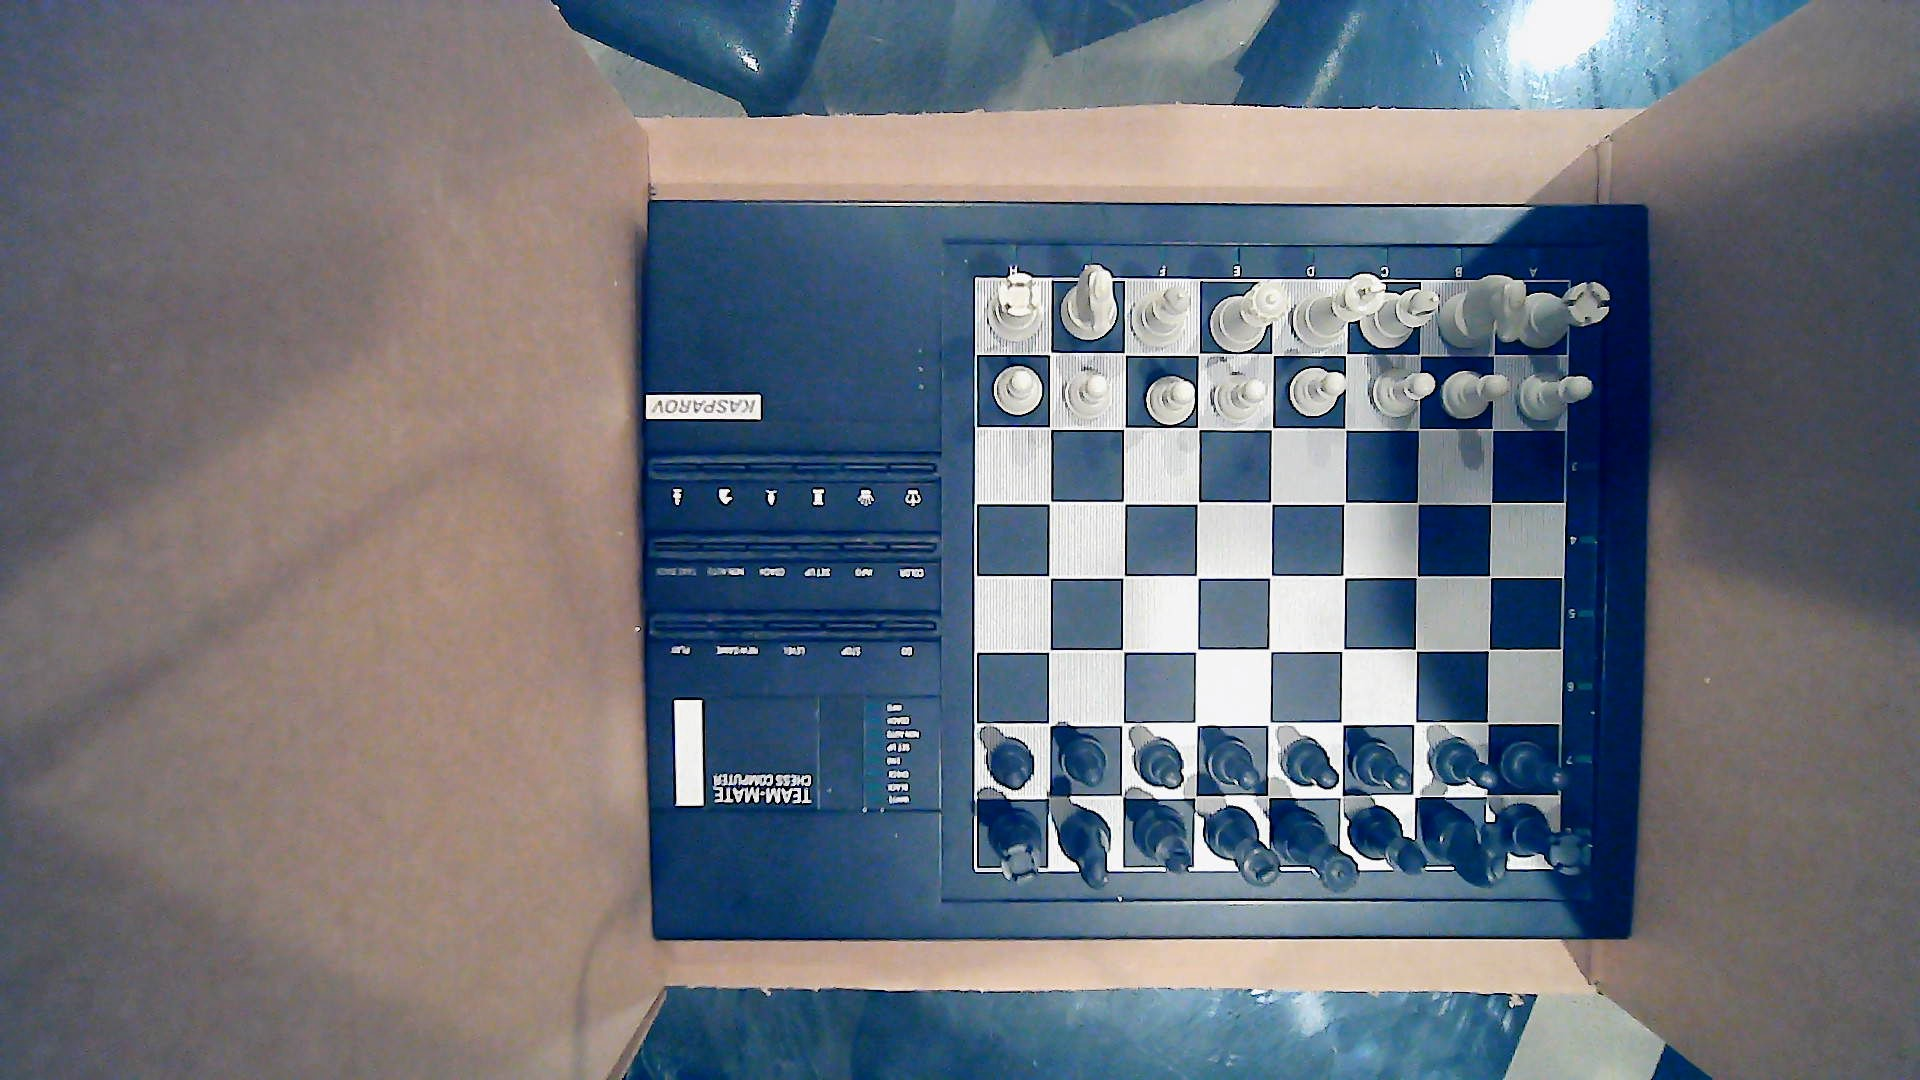bbishop: (1348, 804, 1429, 876), (1133, 804, 1195, 876)
bking: (1203, 806, 1280, 887)
bknight: (1427, 807, 1510, 887), (1058, 808, 1116, 889)
bpawn: (1499, 740, 1571, 793), (1431, 738, 1498, 793), (1352, 742, 1414, 793), (1205, 740, 1261, 793), (1284, 738, 1340, 791), (1131, 738, 1185, 791), (1058, 735, 1108, 789), (989, 741, 1035, 793)
bqueen: (1273, 808, 1361, 895)
brook: (1495, 802, 1596, 876), (986, 808, 1043, 886)
wbishop: (1367, 289, 1441, 348), (1131, 284, 1193, 351)
wking: (1294, 272, 1389, 349)
wknight: (1437, 274, 1527, 352), (1062, 260, 1120, 340)
wpawn: (1516, 372, 1593, 423), (1441, 369, 1511, 419), (1370, 368, 1435, 418), (1211, 373, 1270, 426), (1288, 368, 1350, 418), (1145, 375, 1197, 429), (1062, 368, 1112, 422), (992, 365, 1044, 415)
wqueen: (1209, 280, 1296, 351)
wrook: (1528, 281, 1611, 349), (986, 272, 1047, 343)
